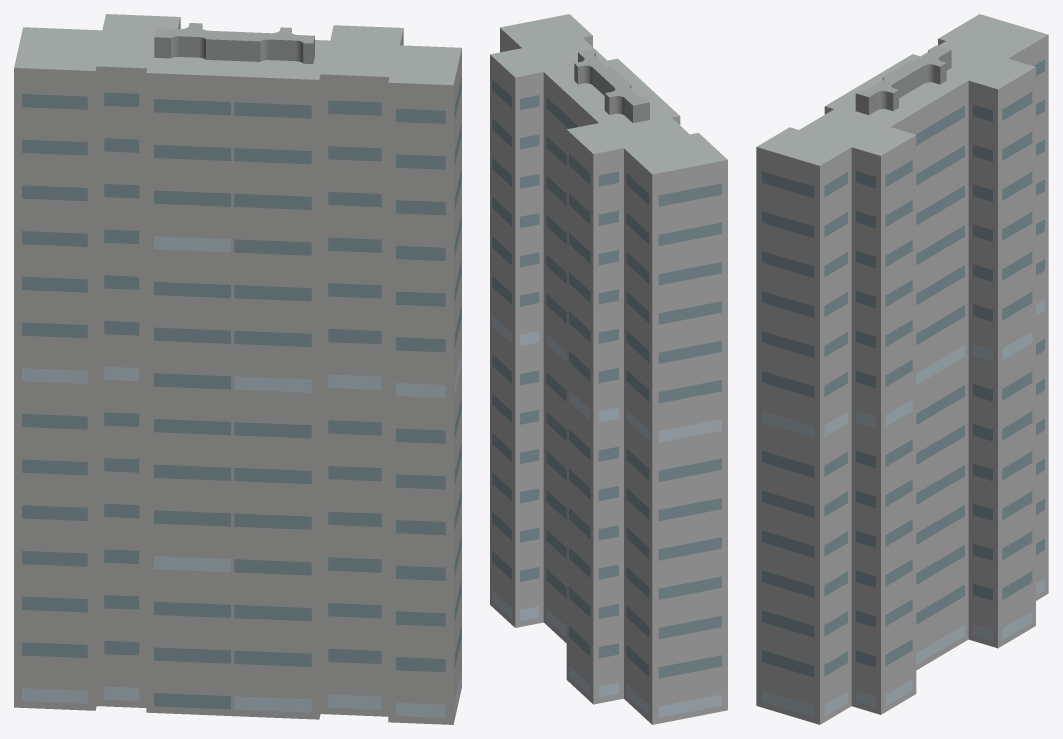
The model's file is fallback-lake-palace-107.glb.
3 views of the same model, side by side, from view 1: azimuth 30°, elevation 25°; view 2: azimuth 150°, elevation 25°; view 3: azimuth 270°, elevation 25° (orthographic). The views are drawn at different scales.
Parts seen in each view (by area): view 1: fallback-lake-palace-107; view 2: fallback-lake-palace-107; view 3: fallback-lake-palace-107.
Part boxes in pixels (x1,y1,x2,y2): fallback-lake-palace-107: (14, 14, 461, 724); fallback-lake-palace-107: (490, 14, 727, 724); fallback-lake-palace-107: (756, 14, 1048, 724).
Bounding box in the file's own units: 43.51 × 77 × 35.32.
